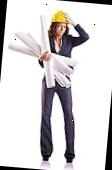helmet: (51, 9, 72, 25)
no_wear: (46, 32, 76, 58)
